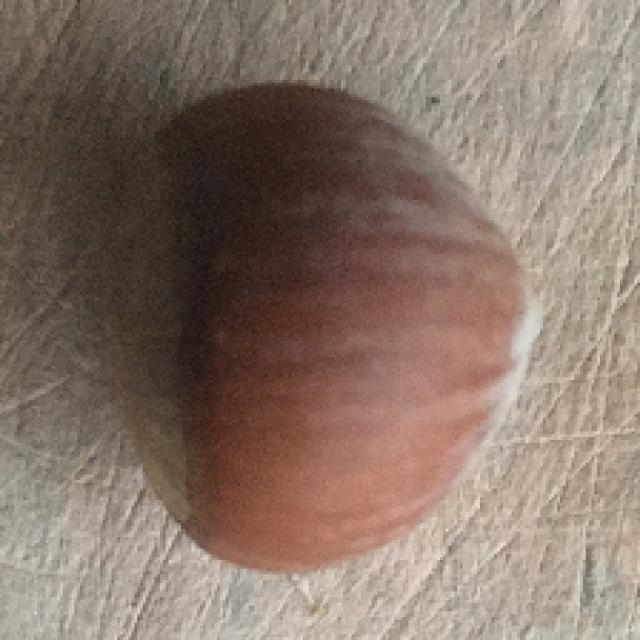QualityHazelnut: (91, 75, 542, 570)
